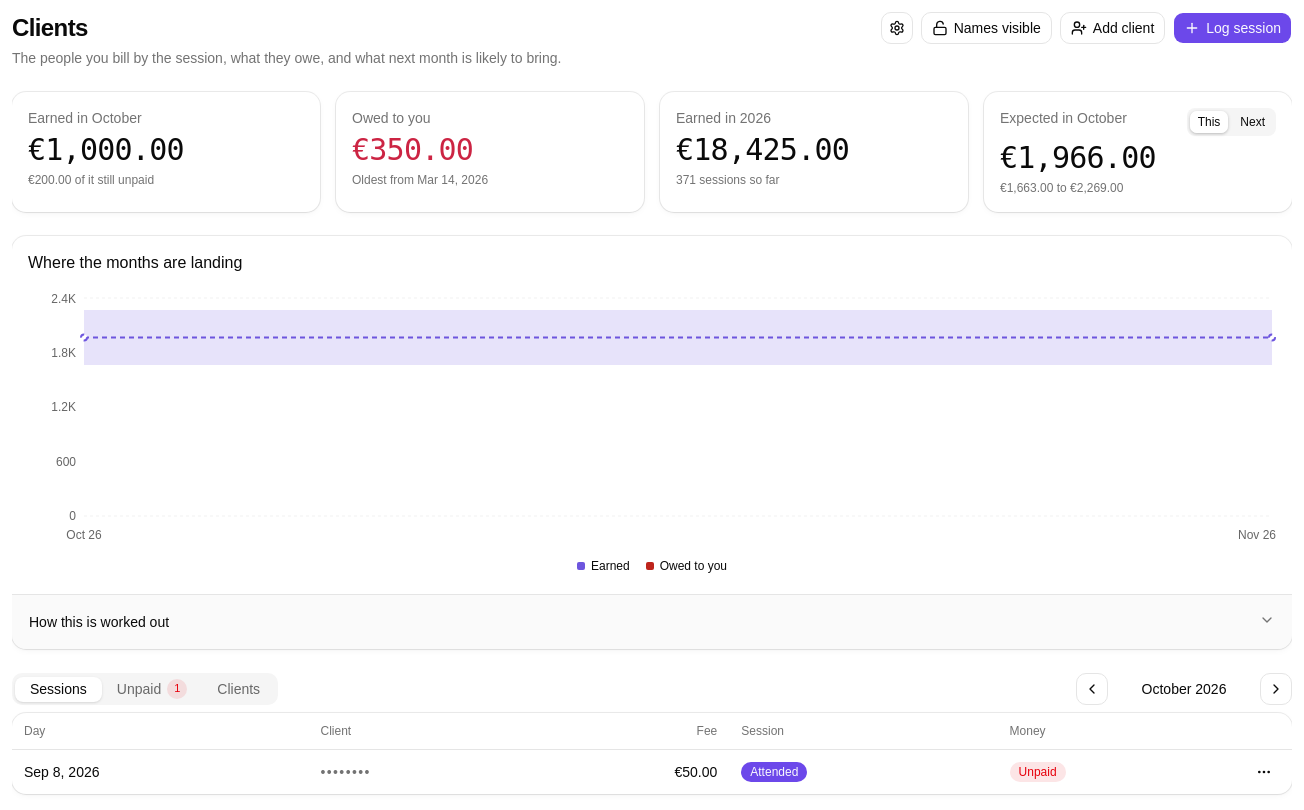
a client another member of the household added › is marked as not yours in the client list
Step 1. Click the tab "Clients" → click(239, 689), box [202,676,275,702]
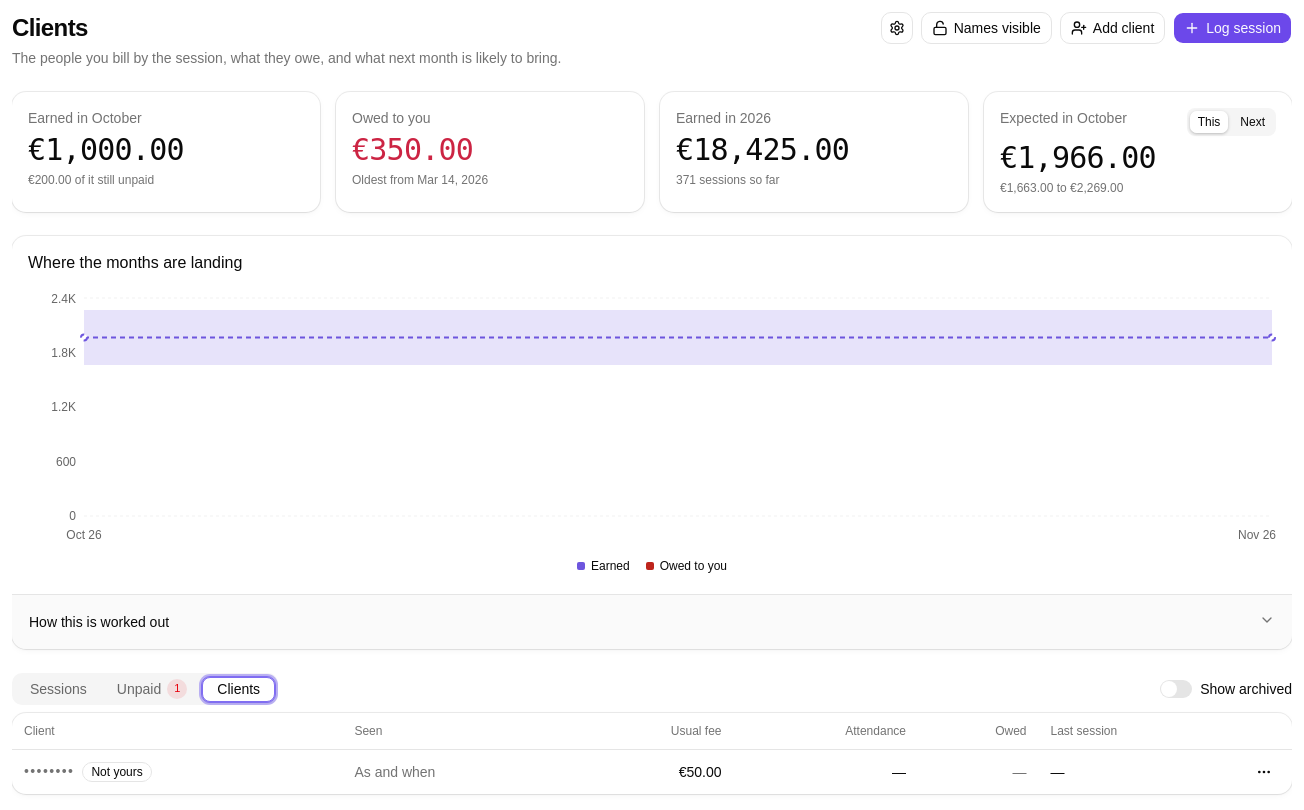
Now the text "Not yours" is shown, box [82,762,152,782]
